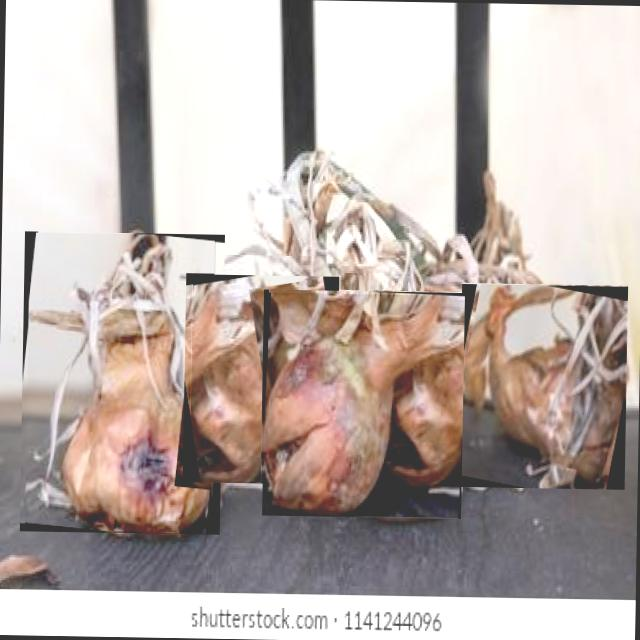rotten: (29, 234, 210, 533), (263, 295, 464, 515), (463, 284, 624, 488), (191, 276, 313, 483)
